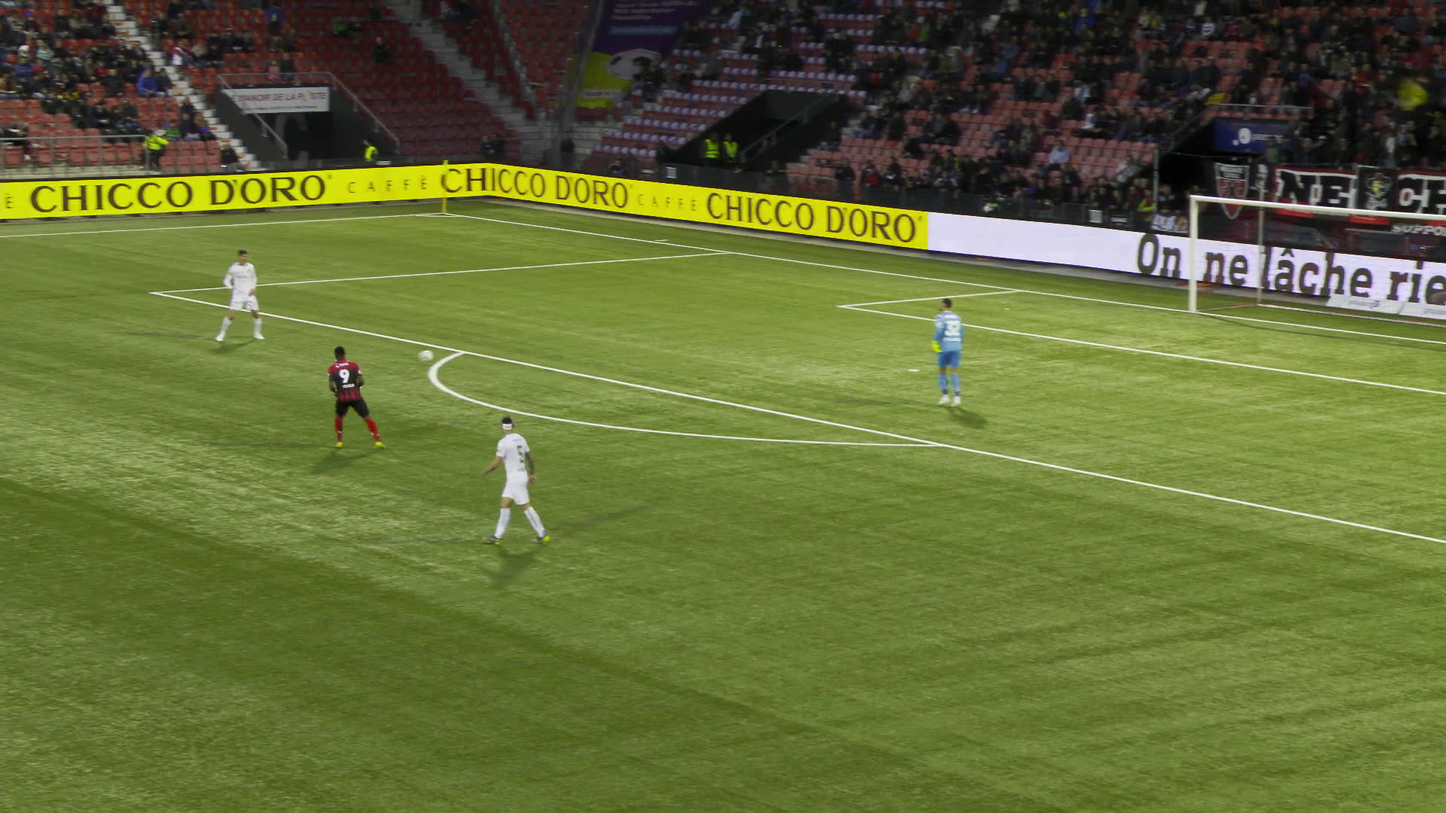ball: (427, 352, 441, 362)
player: (480, 415, 544, 544), (323, 344, 376, 447), (217, 249, 265, 341), (925, 301, 959, 408)
